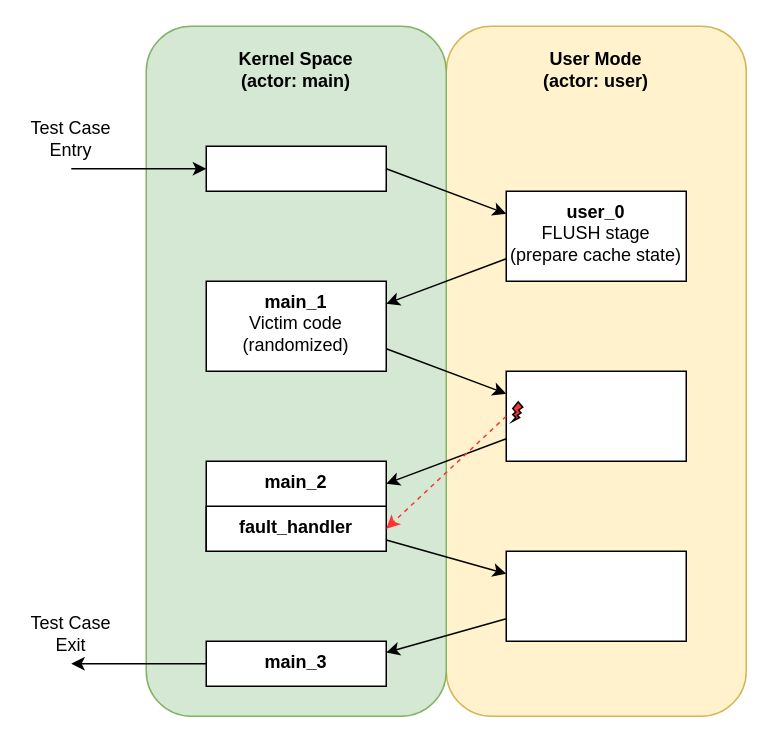
The diagram is 773 pixels wide and 743 high, and some of its shapes have lost their labels. The centre of each missing label's shape, as x and y in pixels:
"main_0" belongs at point (295, 168).
"user_1 Attack code (randomized)" belongs at point (595, 415).
"user_2 RELOAD stage (extract information)" belongs at point (595, 595).
